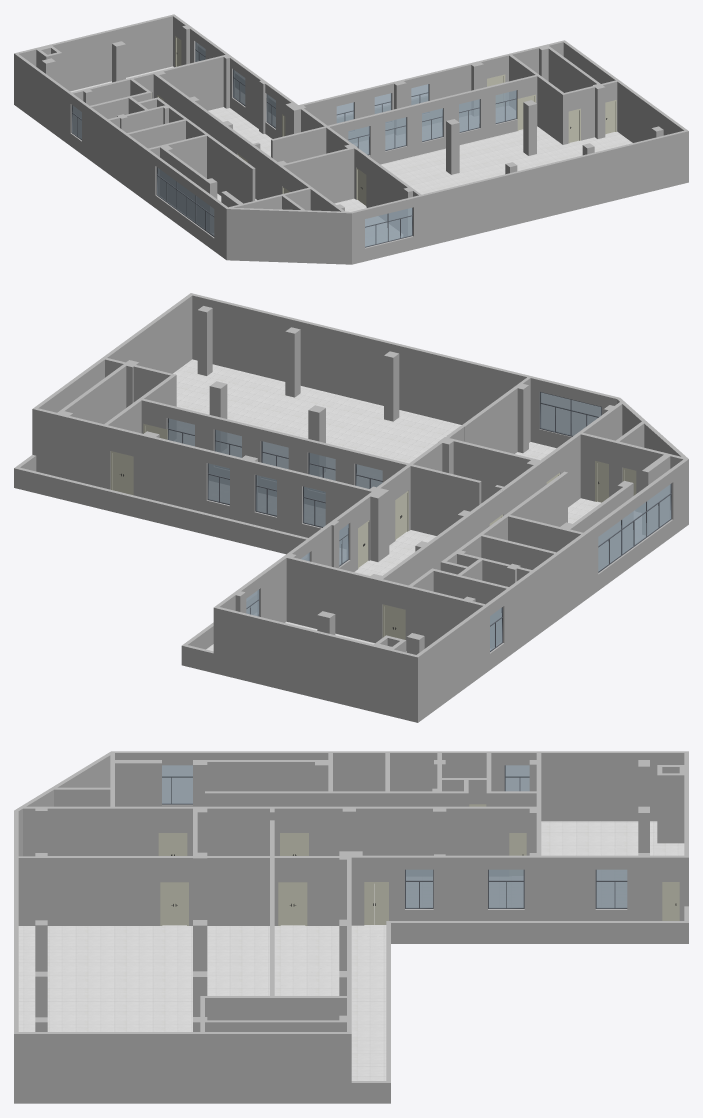
The model's file is floorTwo.FBX.
3 views of the same model, one above another, from view 1: azimuth 30°, elevation 25°; view 2: azimuth 150°, elevation 25°; view 3: azimuth 270°, elevation 25° (orthographic). The views are drawn at different scales.
Visible parts, largest first — view 1: 二层; view 2: 二层; view 3: 二层.
Boxes of the visible parts, x1,y1,x2,y2 form: 二层: (14, 14, 688, 264); 二层: (14, 293, 688, 722); 二层: (14, 751, 688, 1103).
Bounding box in the file's own units: 34770 × 4000 × 35070.
6 materials, 1 textured.
